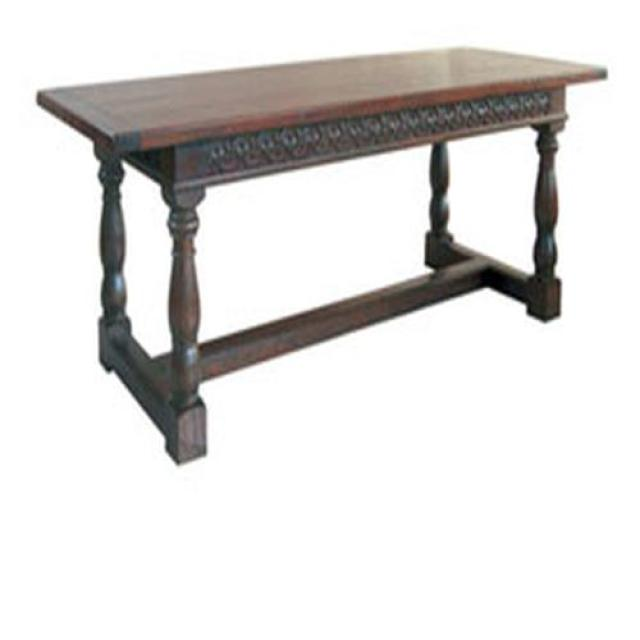table: (37, 46, 609, 466)
